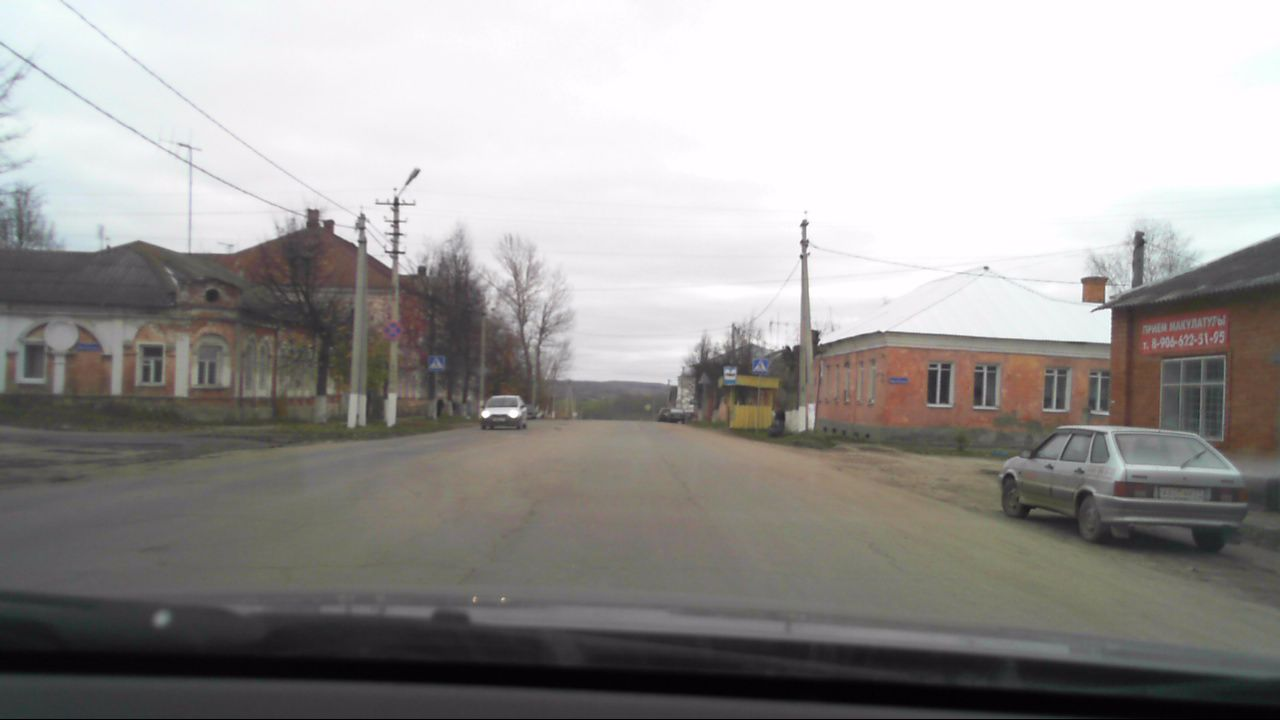No Parking: (384, 320, 403, 340)
